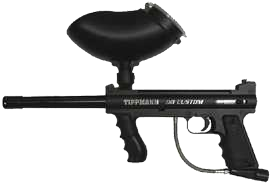Arma Falsa: (2, 2, 269, 183)
